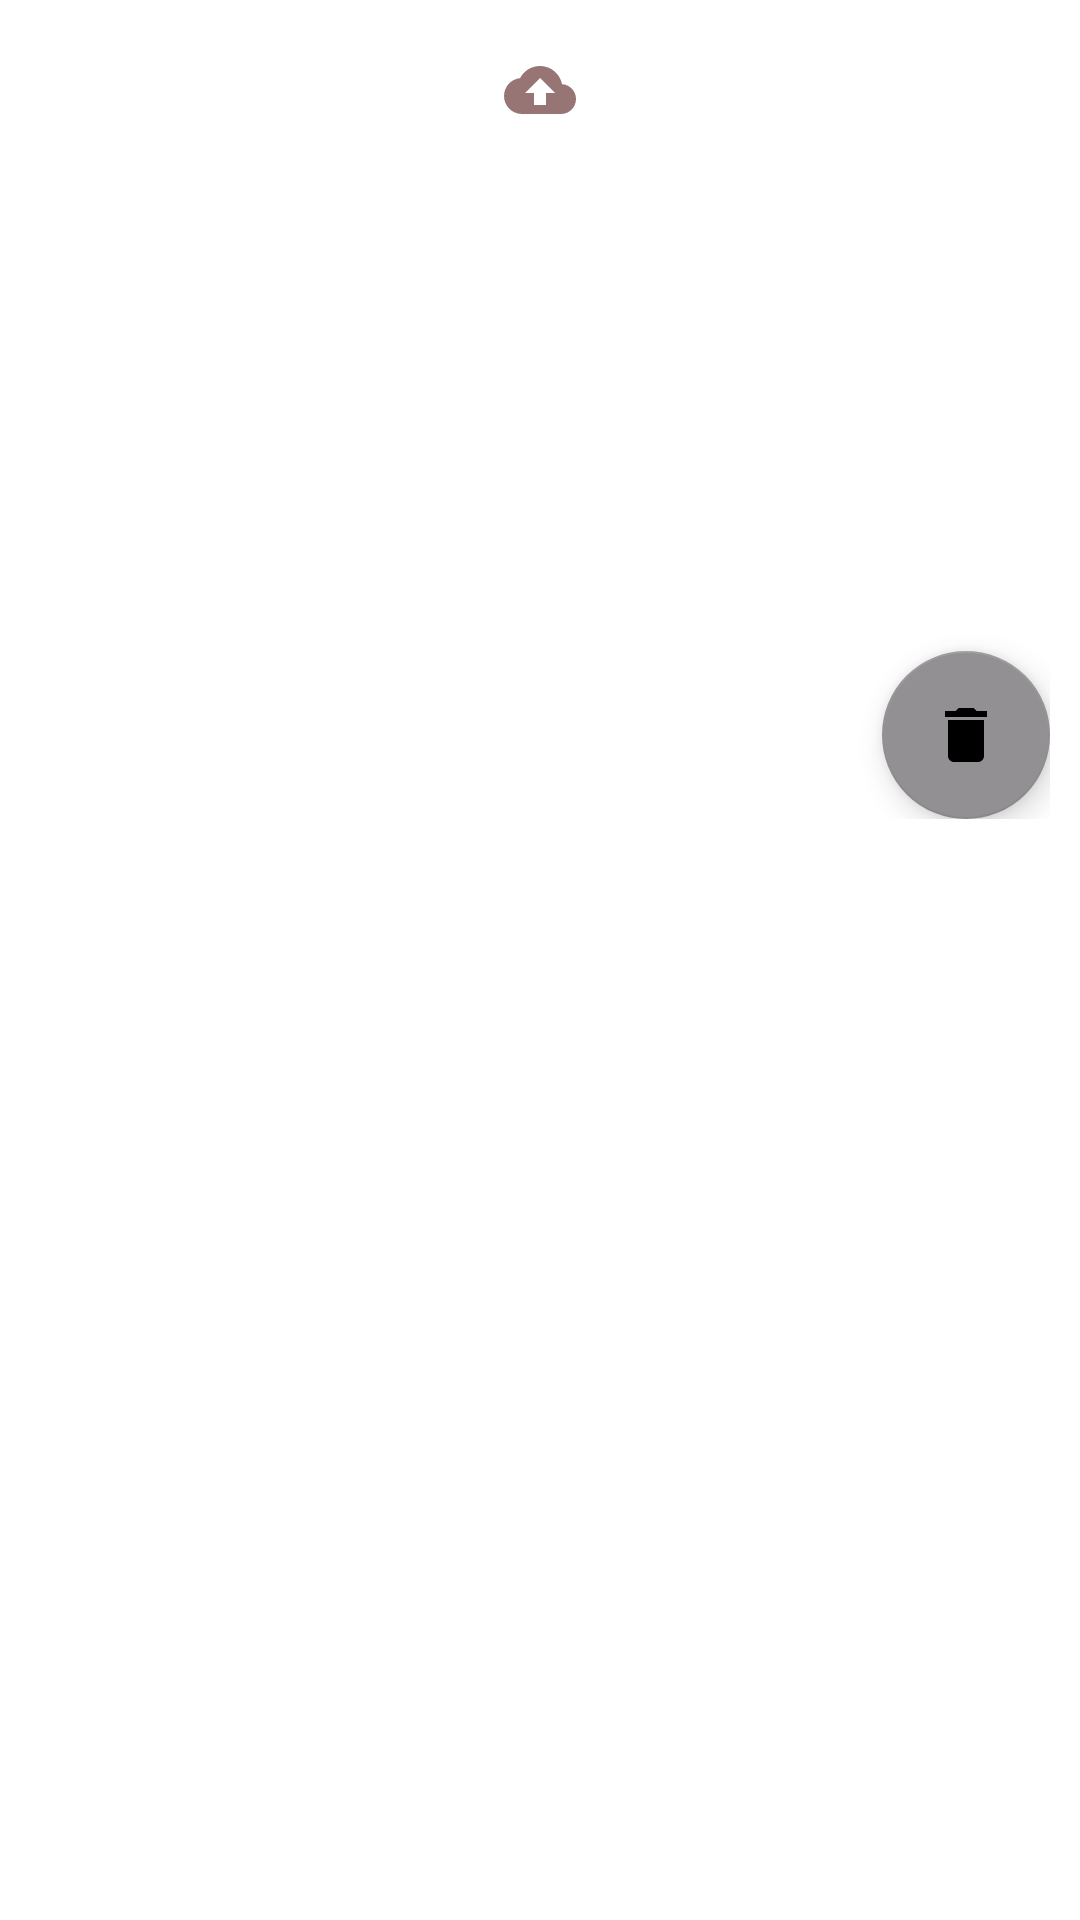

Where icons sit on this 1080x1920 app screen, as [x1, y1, x2, y2]:
uploading: [504, 66, 576, 114]
